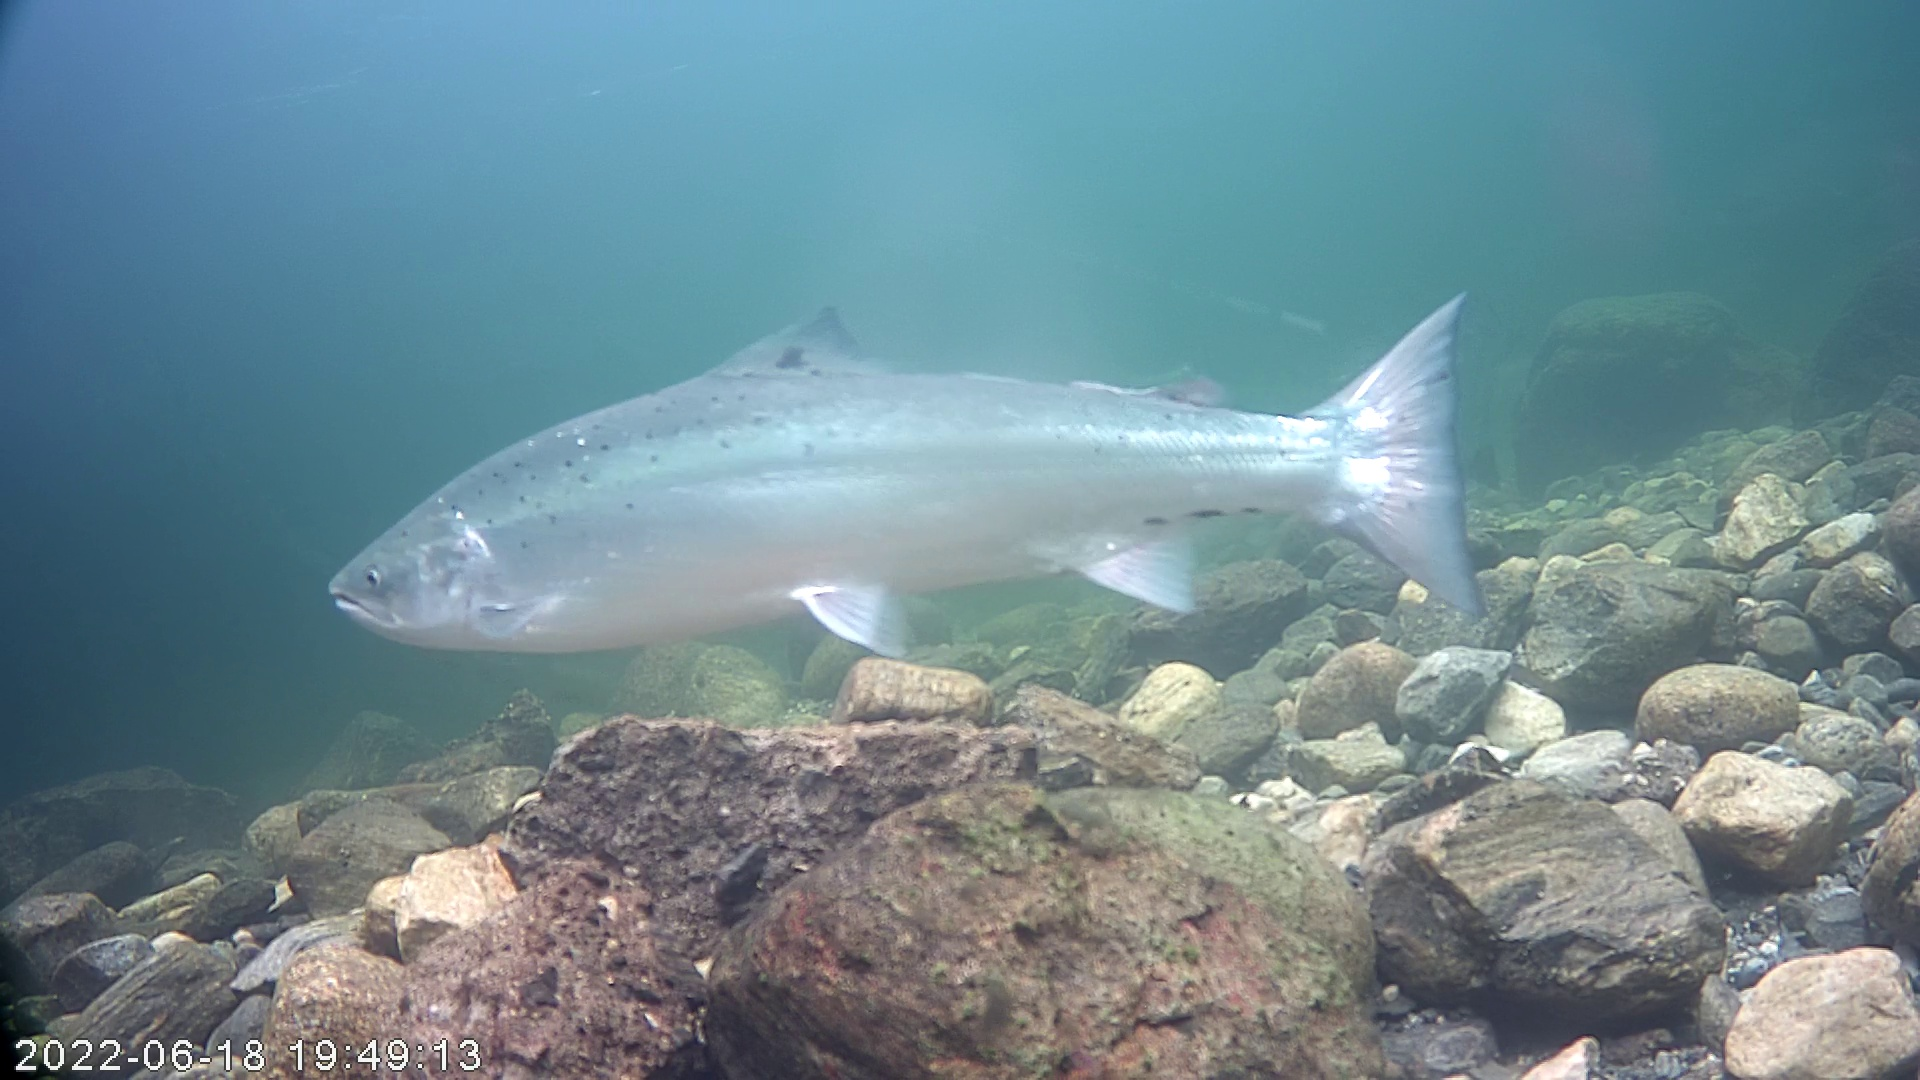salmon: (324, 286, 1491, 663)
